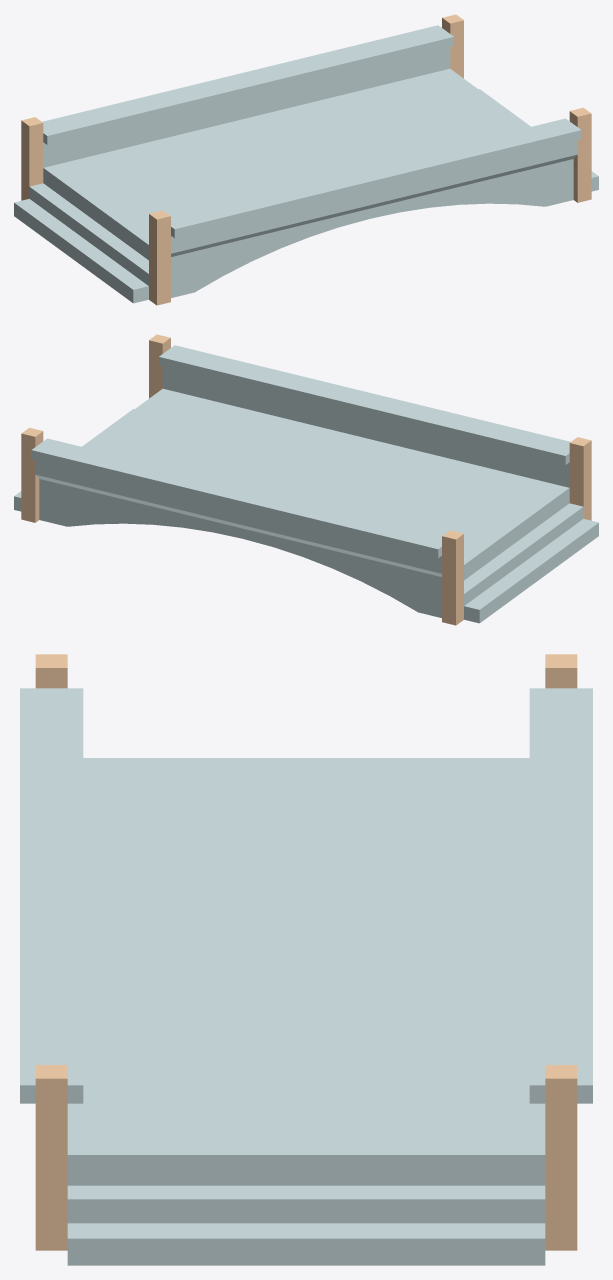
Rendered from bridge_straight.glb.
3 renders of one model, top to bottom at view 1: azimuth 30°, elevation 25°; view 2: azimuth 150°, elevation 25°; view 3: azimuth 270°, elevation 25°, orthographic. The views are drawn at different scales.
Visible parts, largest first — view 1: bridge_straight_primitive0, bridge_straight_primitive1; view 2: bridge_straight_primitive0, bridge_straight_primitive1; view 3: bridge_straight_primitive0, bridge_straight_primitive1.
Boxes of the visible parts, left/top/right/bottom form: bridge_straight_primitive0: left=14, top=25, right=598, bottom=303; bridge_straight_primitive1: left=21, top=14, right=591, bottom=305; bridge_straight_primitive0: left=14, top=345, right=598, bottom=623; bridge_straight_primitive1: left=21, top=334, right=591, bottom=625; bridge_straight_primitive0: left=20, top=688, right=592, bottom=1265; bridge_straight_primitive1: left=35, top=654, right=577, bottom=1250.
Bounding box in the file's own units: 0.9495 × 0.1676 × 0.5062.
